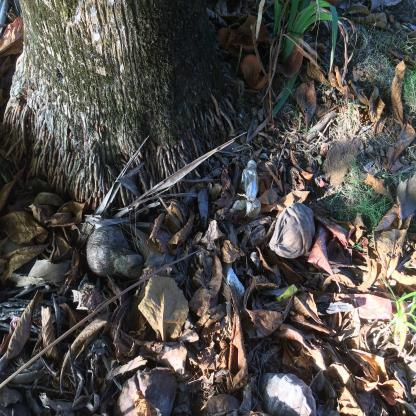plastik: (242, 161, 263, 219)
